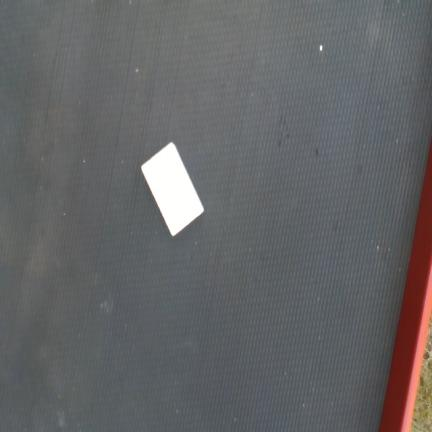Paralelepipedo: (141, 141, 205, 237)
